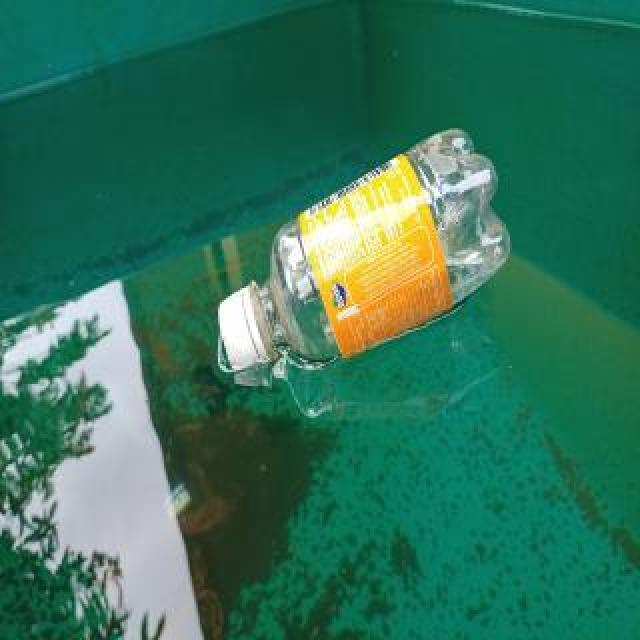bottle: (218, 125, 514, 375)
